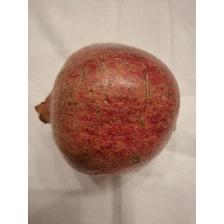Granatapfel: (34, 41, 182, 179)
